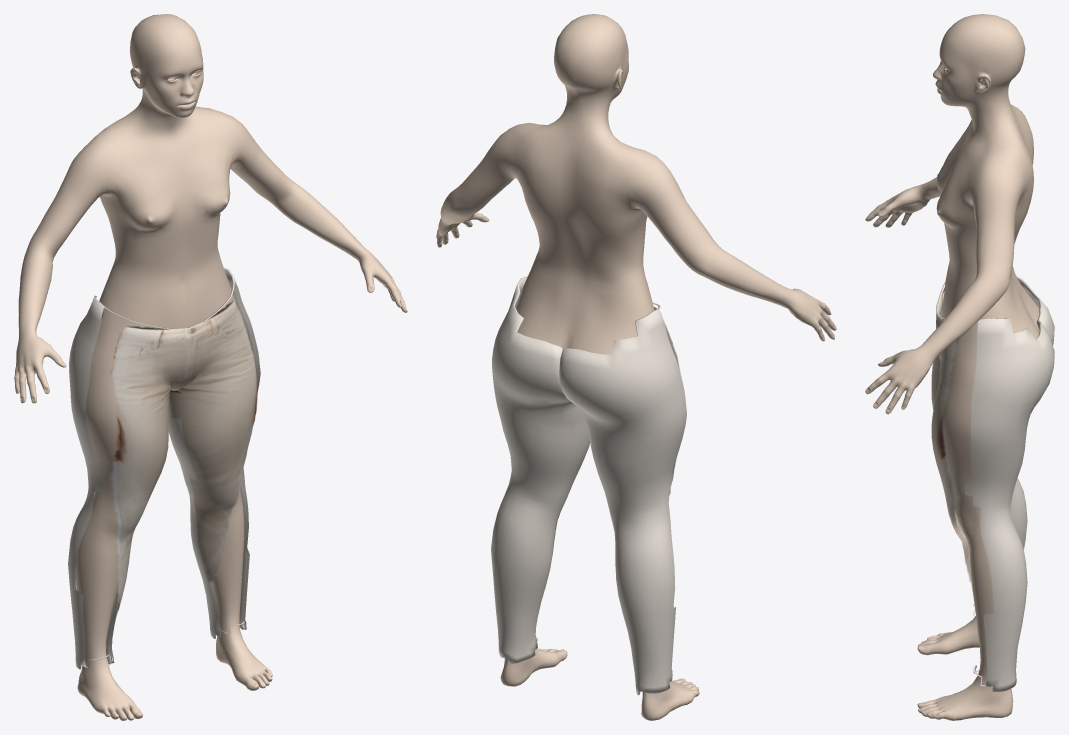
File: avatar_ba5a167c2b5a.glb
The picture shows the model from 3 angles, left to right: view 1: azimuth 30°, elevation 25°; view 2: azimuth 150°, elevation 25°; view 3: azimuth 270°, elevation 25°; orthographic projection.
Visible parts, largest first — view 1: Human_gen, garment_trousers; view 2: Human_gen, garment_trousers; view 3: Human_gen, garment_trousers.
Part boxes in pixels (x1,y1,x2,y2): Human_gen: (14,14,407,720); garment_trousers: (68,267,260,669); Human_gen: (436,14,836,720); garment_trousers: (491,276,686,695); Human_gen: (865,14,1039,720); garment_trousers: (931,275,1054,691).
Bounding box in the file's own units: 1.03 × 1.7 × 0.439.
3 materials, 1 textured.
